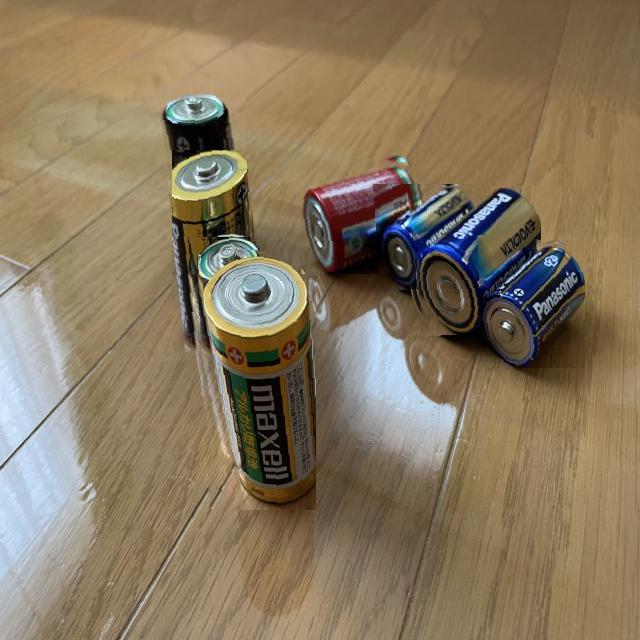battery: (196, 248, 316, 510), (407, 186, 541, 336), (172, 150, 256, 354), (296, 150, 424, 274), (478, 235, 586, 368), (373, 184, 474, 292), (188, 237, 266, 370), (158, 82, 246, 194)
